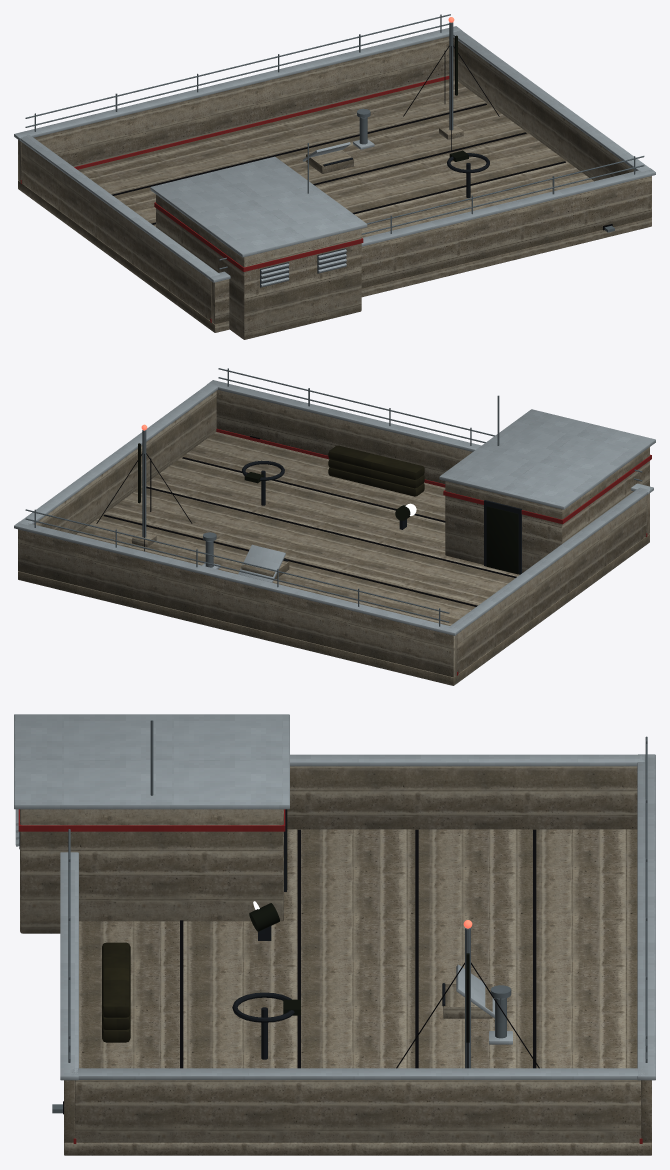
The model's file is fac_security_roof.glb.
3 renders of one model, top to bottom at view 1: azimuth 30°, elevation 25°; view 2: azimuth 150°, elevation 25°; view 3: azimuth 270°, elevation 25°, orthographic. The views are drawn at different scales.
Visible parts, largest first — view 1: FAC_SECURITY_ROOF; view 2: FAC_SECURITY_ROOF; view 3: FAC_SECURITY_ROOF.
Boxes of the visible parts, left/top/right/bottom form: FAC_SECURITY_ROOF: left=14, top=14, right=655, bottom=339; FAC_SECURITY_ROOF: left=14, top=368, right=655, bottom=685; FAC_SECURITY_ROOF: left=14, top=714, right=655, bottom=1155.
Size of the model in its own units: 13.86 by 4.15 by 11.68.
11 materials, 9 textured.
